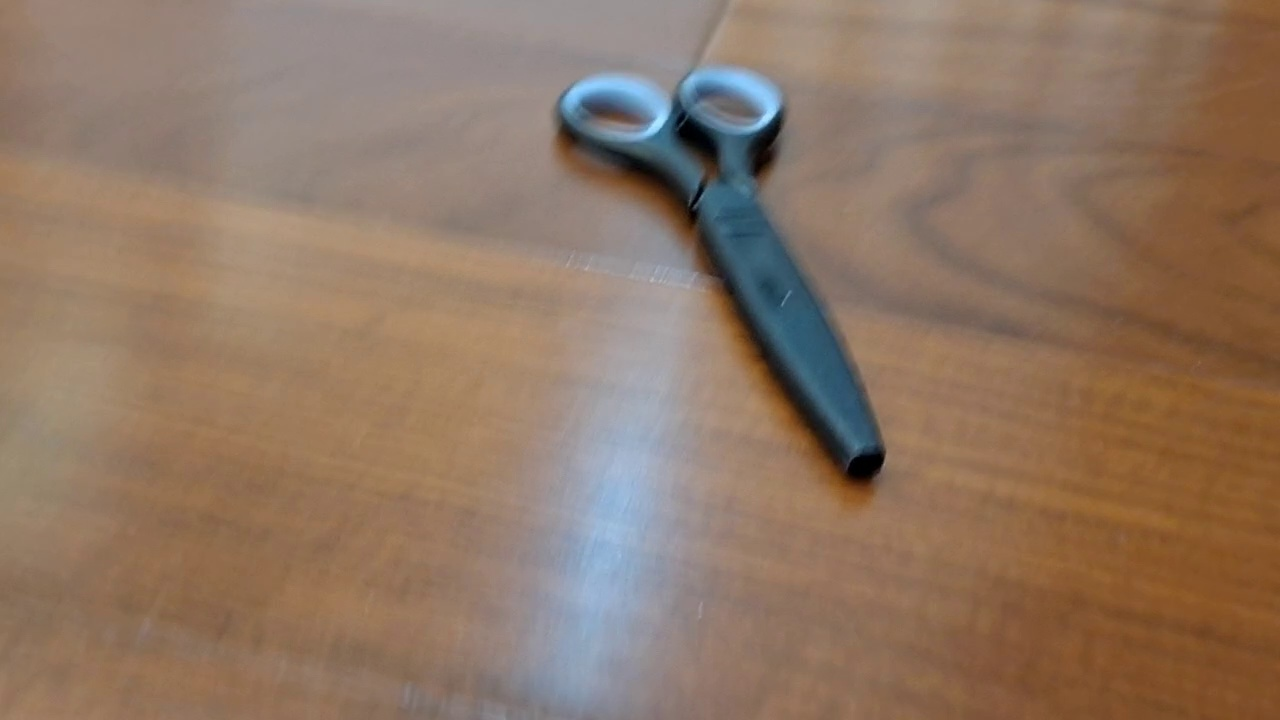scissors: (554, 64, 887, 482)
